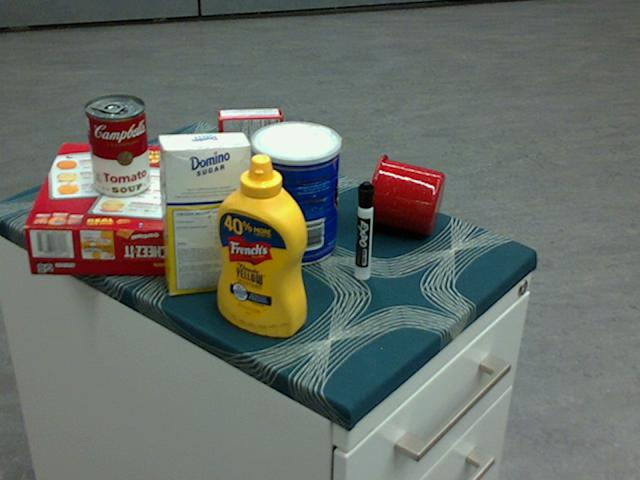cracker_box: (23, 143, 189, 276)
gelatin_box: (217, 108, 282, 164)
large_marker: (356, 181, 374, 280)
master_chef_can: (249, 120, 339, 265)
mug: (364, 153, 444, 234)
mustard_bottle: (217, 153, 307, 337)
potted_meat_can: (254, 132, 336, 213)
sugar_box: (157, 131, 250, 294)
tomato_soup_can: (84, 95, 150, 198)
tuna_fish_can: (181, 149, 222, 219)
